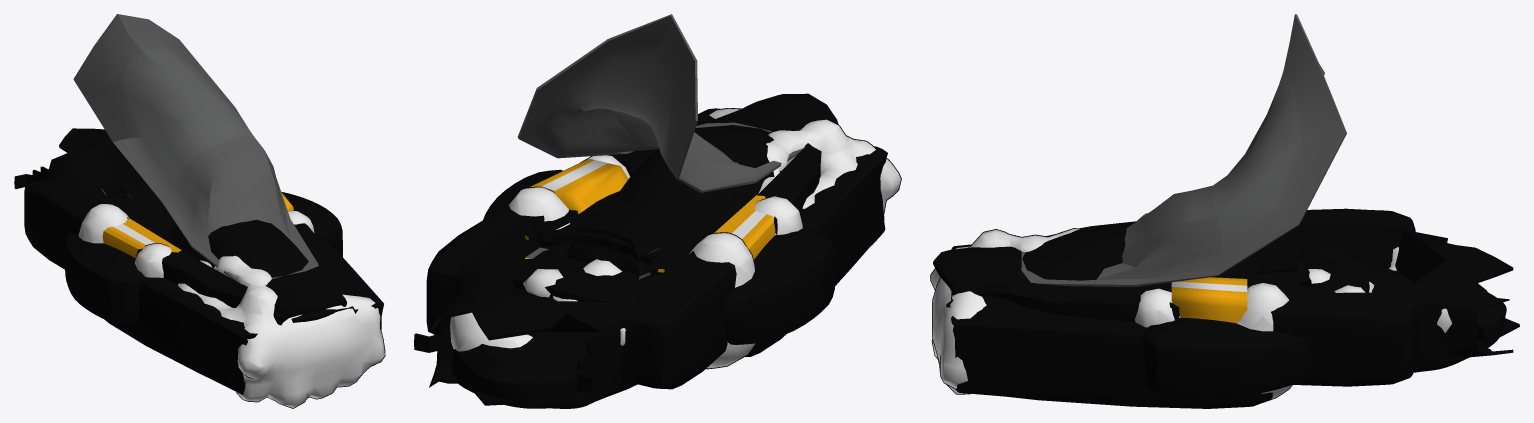
The model's file is Dead Enemy Rocket Ship.fbx.
3 renders of one model, left to right at view 1: azimuth 30°, elevation 25°; view 2: azimuth 150°, elevation 25°; view 3: azimuth 270°, elevation 25°, orthographic. The views are drawn at different scales.
Parts seen in each view (by area): view 1: Circle.001, Circle.004, Circle.013, Circle.014; view 2: Circle.001, Circle.004, Circle.013, Circle.014, Circle.005; view 3: Circle.001, Circle.004, Circle.013, Circle.014, Circle.005.
Part boxes in pixels (x1,y1,x2,y2): Circle.001: (14,14,346,325); Circle.004: (90,177,385,408); Circle.013: (64,183,342,324); Circle.014: (100,185,174,242); Circle.001: (414,14,838,405); Circle.004: (451,108,901,408); Circle.013: (483,169,834,344); Circle.014: (524,191,721,281); Circle.005: (532,200,689,274); Circle.001: (933,14,1519,402); Circle.004: (930,226,1506,408); Circle.013: (1143,249,1369,397); Circle.014: (1211,230,1344,292); Circle.005: (1221,229,1311,292).
Bounding box in the file's own units: 2.73 × 4.93 × 3.12.
